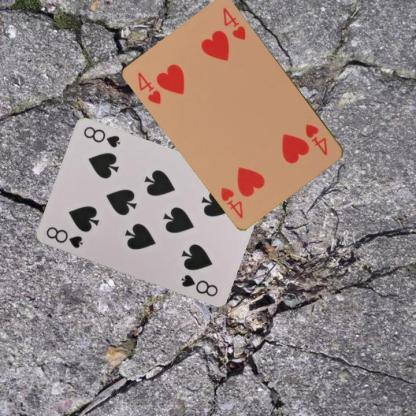4h: (135, 69, 163, 106), (303, 121, 329, 157)
8s: (43, 224, 84, 250)
